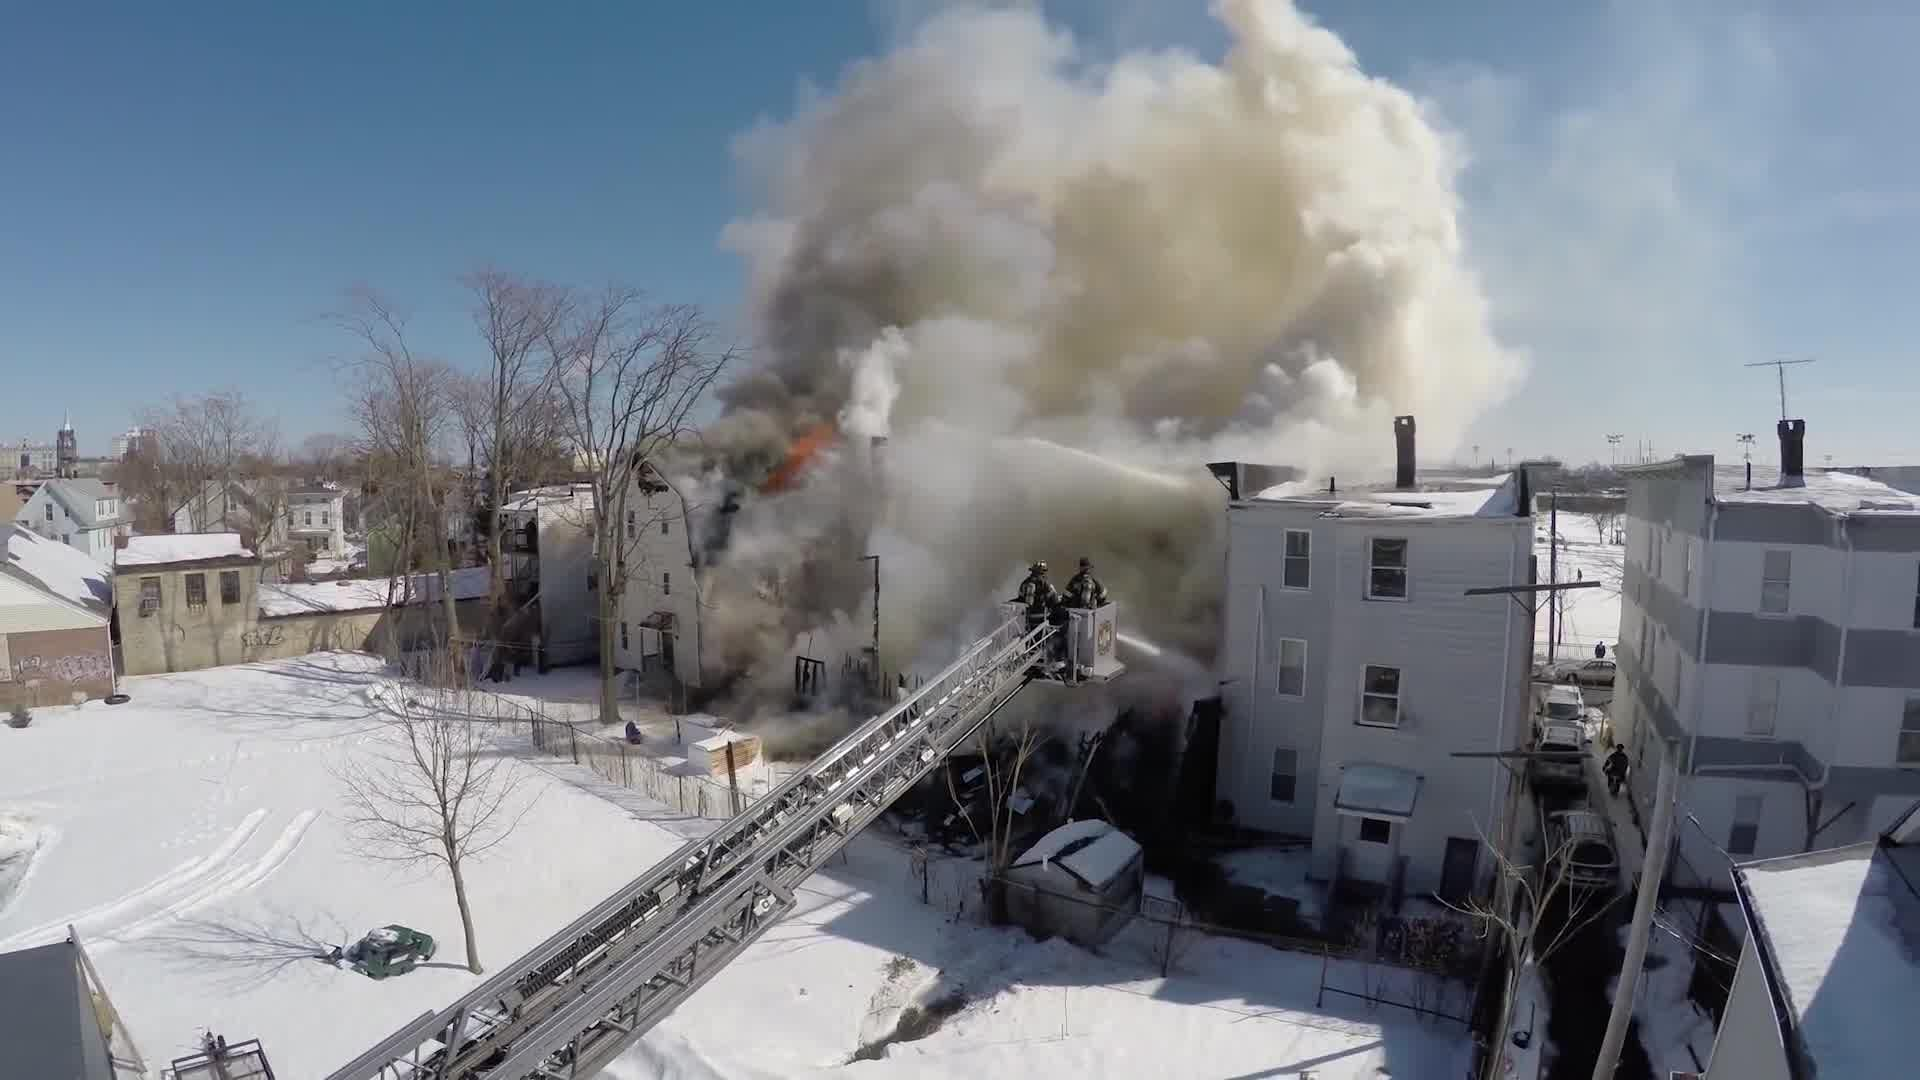smoke: (820, 112, 1436, 476)
